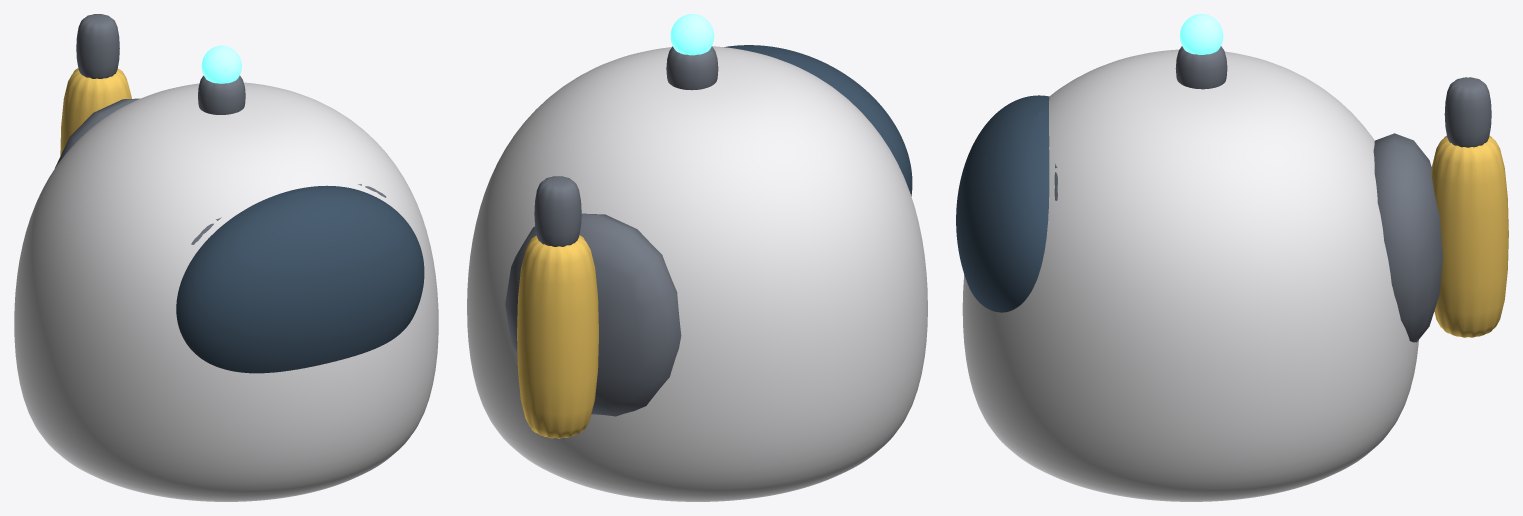
File: crew.glb
3 renders of one model, left to right at view 1: azimuth 30°, elevation 25°; view 2: azimuth 150°, elevation 25°; view 3: azimuth 270°, elevation 25°, orthographic. The views are drawn at different scales.
Visible parts, largest first — view 1: crew; view 2: crew; view 3: crew.
Boxes of the visible parts, bbox=[...] form: crew: bbox=[14, 14, 438, 501]; crew: bbox=[467, 14, 927, 501]; crew: bbox=[956, 14, 1508, 501].
Bounding box in the file's own units: 0.9009 × 0.915 × 1.09.
